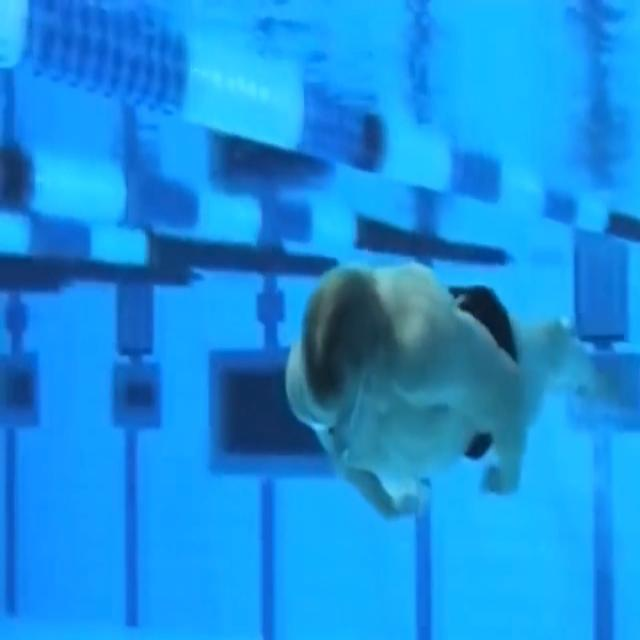Swimming: (282, 265, 600, 523)
